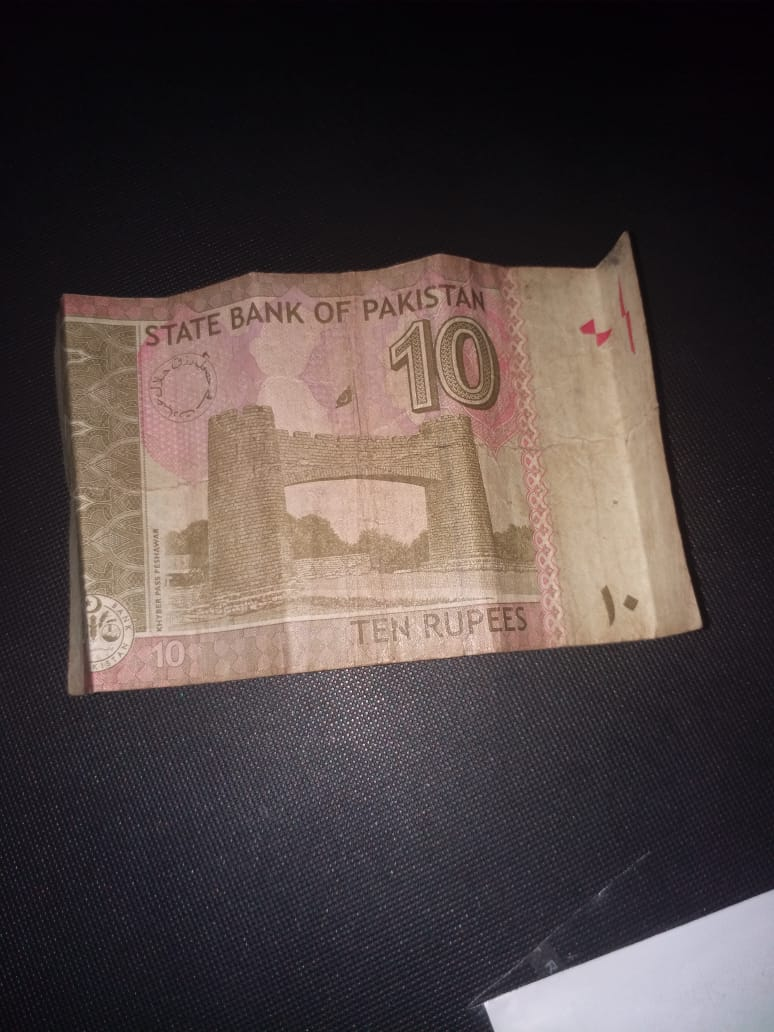10 rupee: (47, 248, 703, 689)
